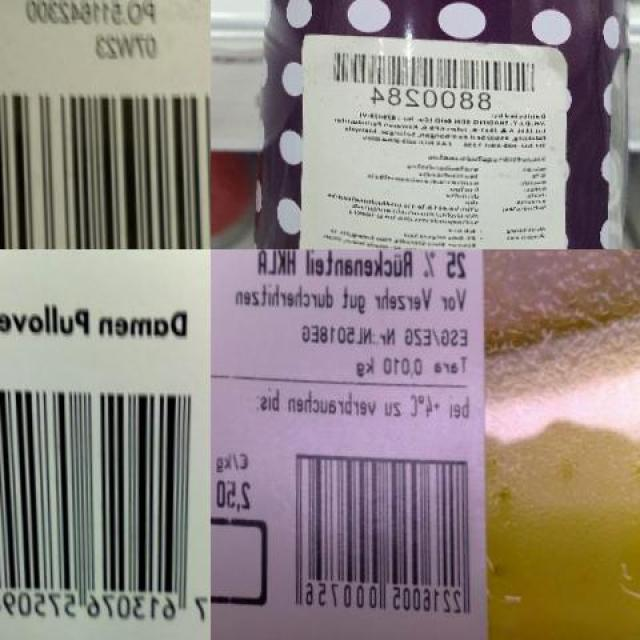Barcode: (0, 368, 211, 639), (0, 55, 211, 249), (278, 436, 478, 636), (316, 42, 548, 113)
